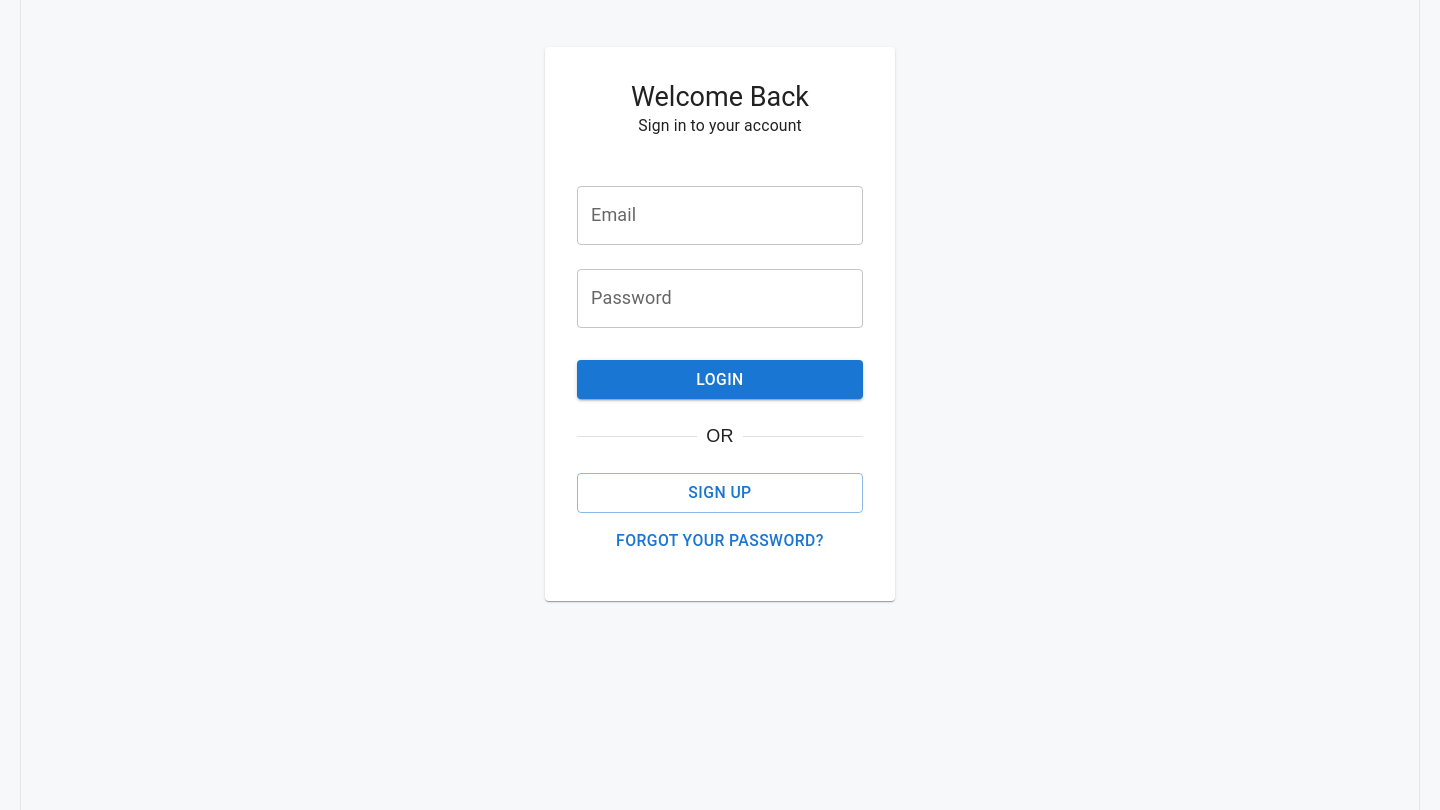
Scenario: Login › shows the server's message and stays put when the password is wrong
Type "dana@example.com" into the field labelled "Email".
click(720, 215); type("dana@example.com")  # box [577,186,863,245]
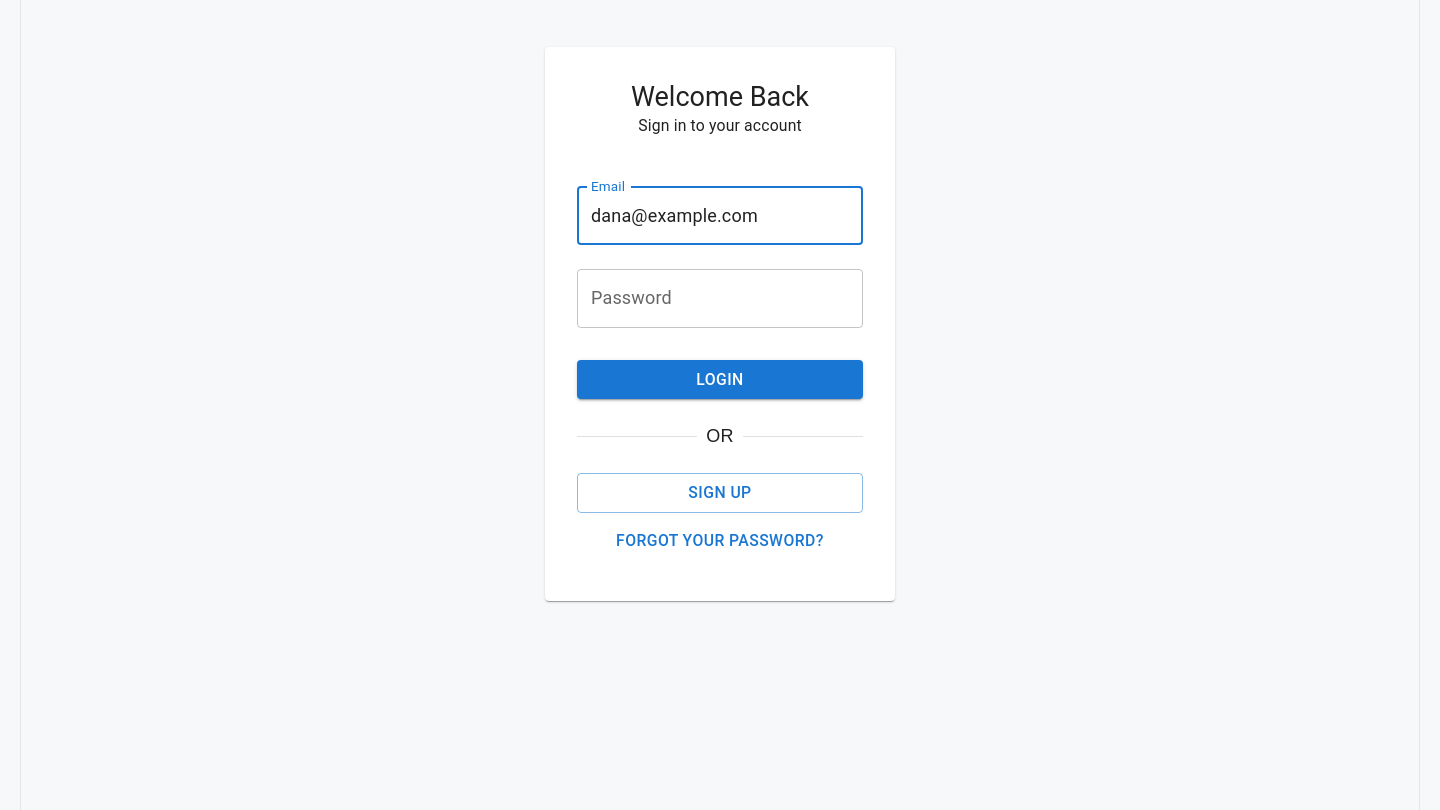
Type "wrong" into the password field labelled "Password".
click(720, 298); type("wrong")  # box [577,269,863,328]
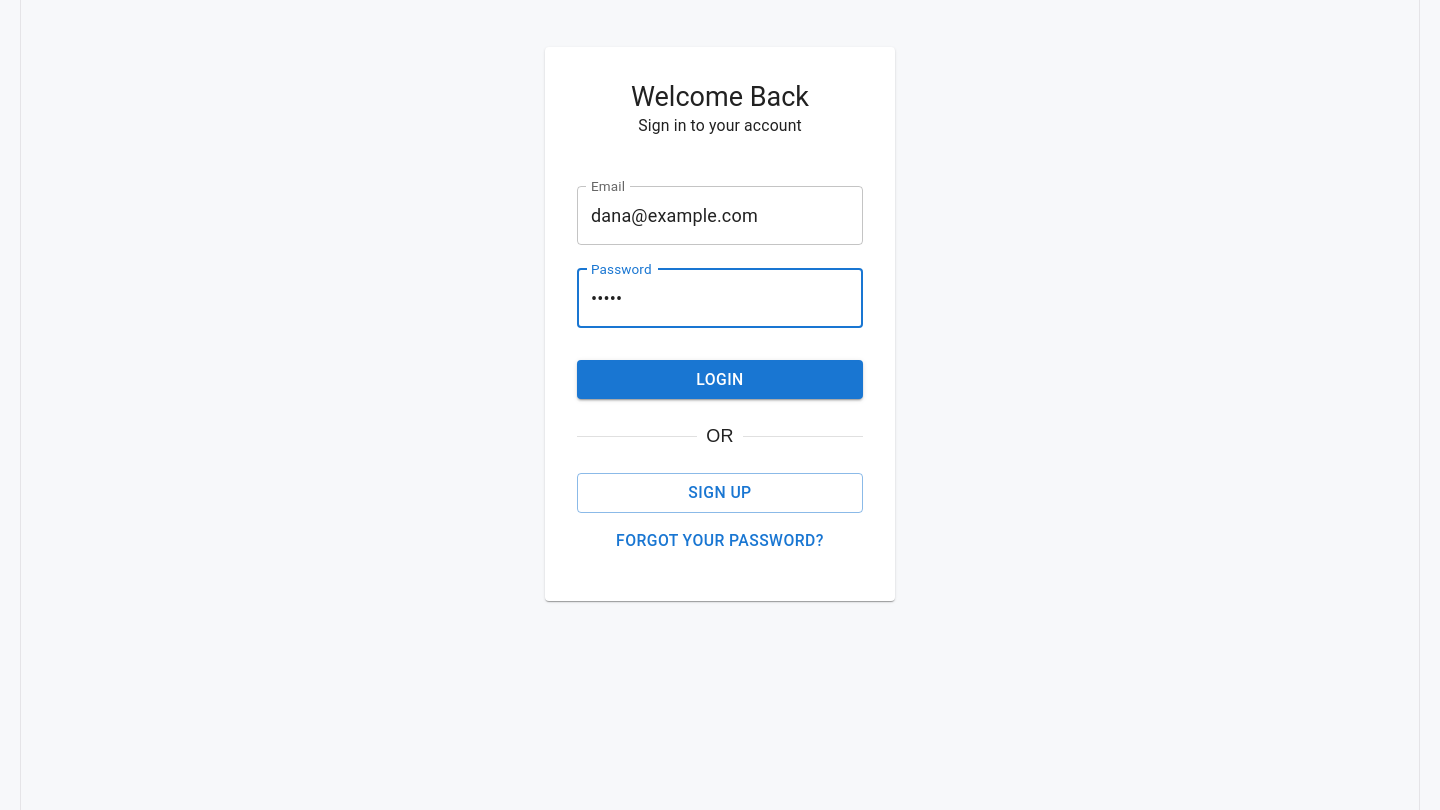
Click the button "Login".
click(720, 380)  # box [577,360,863,399]
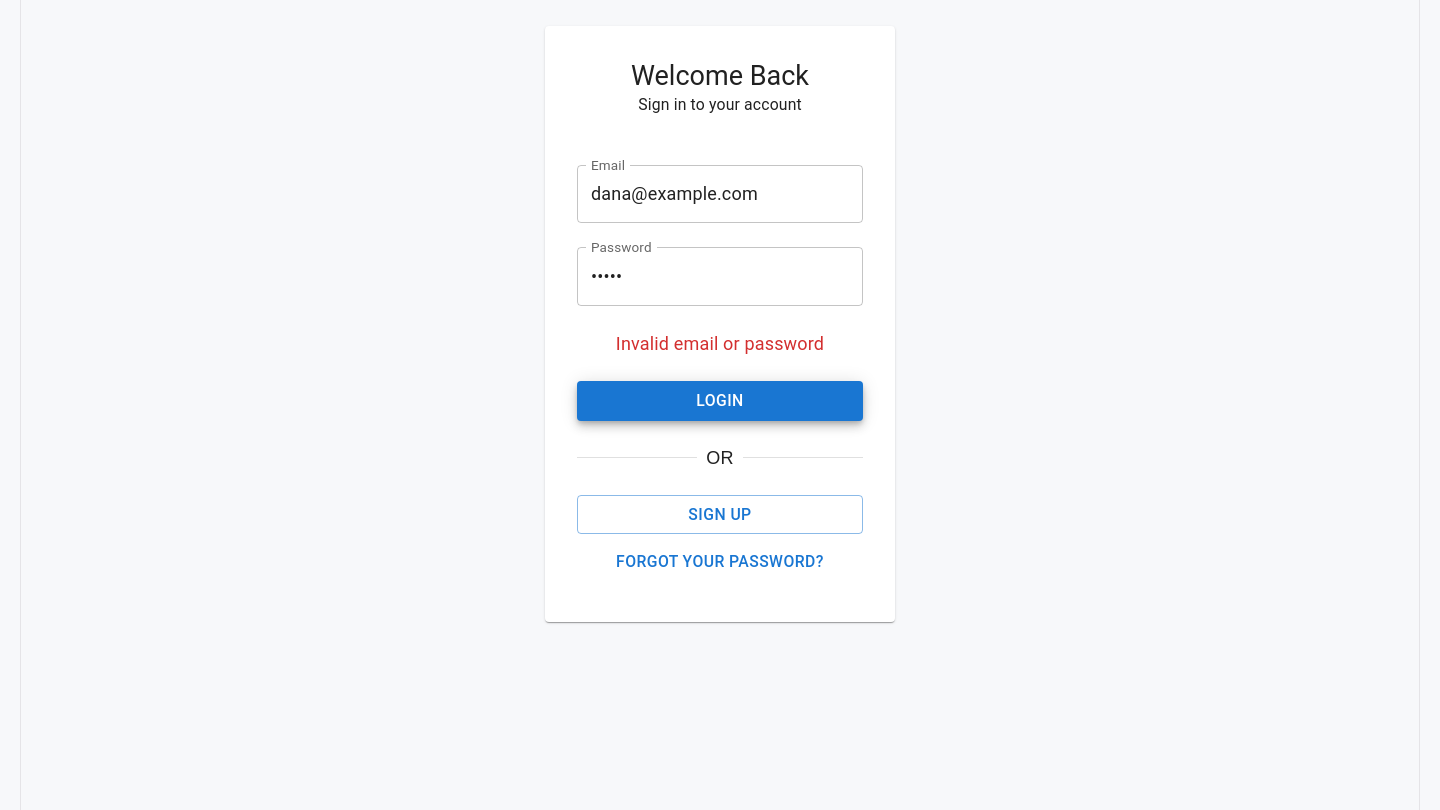
Check: the text "Invalid email or password" is shown, box [616,333,824,354]
